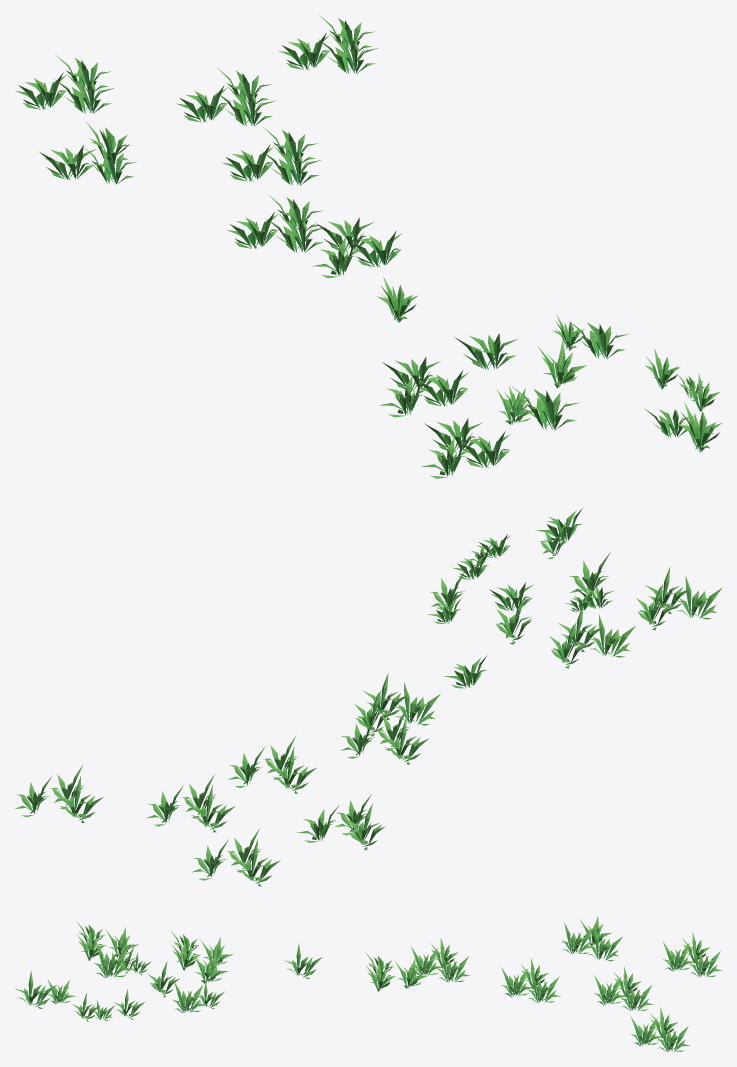
File: Area_06_16.fbx
3 views of the same model, one above another, from view 1: azimuth 30°, elevation 25°; view 2: azimuth 150°, elevation 25°; view 3: azimuth 270°, elevation 25° (orthographic). The views are drawn at different scales.
Parts seen in each view (by area): view 1: Area_06_16; view 2: Area_06_16; view 3: Area_06_16.
Boxes of the visible parts, x1,y1,x2,y2 form: Area_06_16: (14,15,721,478); Area_06_16: (15,508,722,886); Area_06_16: (15,916,722,1052).
Size of the model in its own units: 894 by 127 by 2159.
